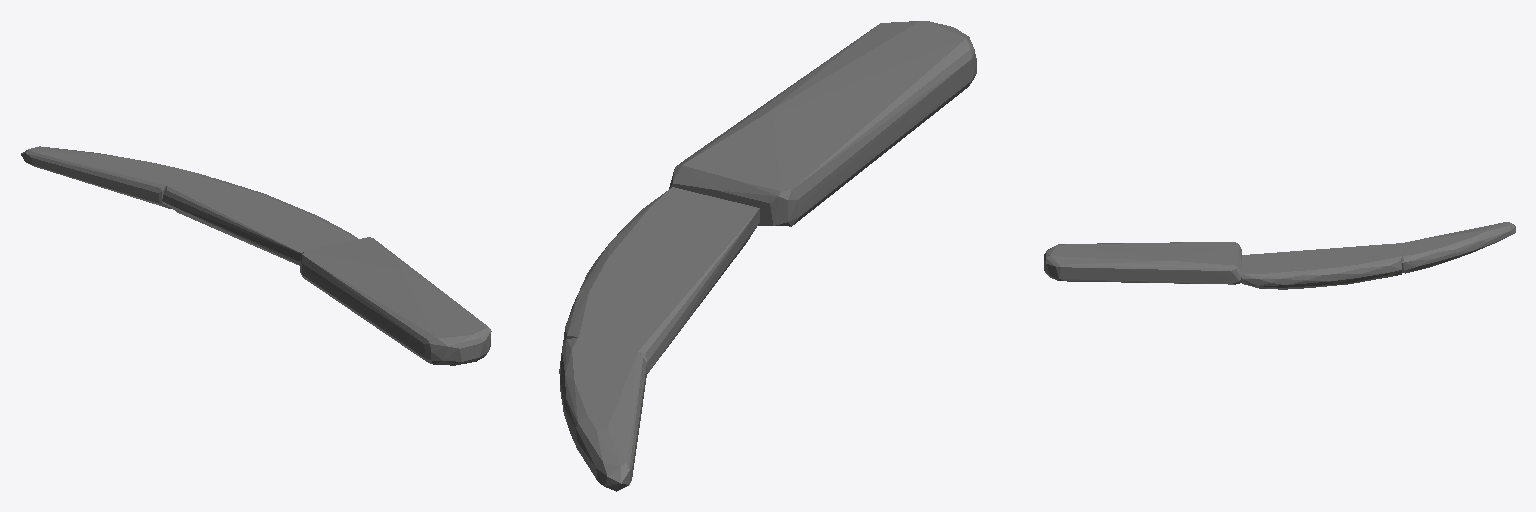
URDF robot description (knife_031):
<?xml version="1.0" ?>
<robot name="knife_031">
  <material name="color">
    <color rgba=".5 .5 .5 1"/>
  </material>

  <link name="base_link">
    <contact>
      <lateral_friction value="1.0"/>
      <rolling_friction value="0.001"/>
      <spinning_friction value="0.001"/>
      <inertia_scaling value="1.0"/>
    </contact>
    <inertial>
      <origin rpy="0 0 0" xyz="0.0106457 -0.0103061 -0.00175472"/>
       <mass value="0.1"/>
       <inertia ixx="1" ixy="0" ixz="0" iyy="1" iyz="0" izz="1"/>
    </inertial>

    <visual>
      <origin rpy="0 0 0" xyz="0 0 0"/>
      <geometry>
        <mesh filename="knife_031_vhacd_0_of_3.obj" scale="1 1 1"/>
      </geometry>
      <material name="color"/>
    </visual>
    <visual>
      <origin rpy="0 0 0" xyz="0 0 0"/>
      <geometry>
        <mesh filename="knife_031_vhacd_1_of_3.obj" scale="1 1 1"/>
      </geometry>
      <material name="color"/>
    </visual>
    <visual>
      <origin rpy="0 0 0" xyz="0 0 0"/>
      <geometry>
        <mesh filename="knife_031_vhacd_2_of_3.obj" scale="1 1 1"/>
      </geometry>
      <material name="color"/>
    </visual>

    <collision>
      <origin rpy="0 0 0" xyz="0 0 0"/>
      <geometry>
        <mesh filename="knife_031_vhacd_0_of_3.obj" scale="1 1 1"/>
      </geometry>
    </collision>
    <collision>
      <origin rpy="0 0 0" xyz="0 0 0"/>
      <geometry>
        <mesh filename="knife_031_vhacd_1_of_3.obj" scale="1 1 1"/>
      </geometry>
    </collision>
    <collision>
      <origin rpy="0 0 0" xyz="0 0 0"/>
      <geometry>
        <mesh filename="knife_031_vhacd_2_of_3.obj" scale="1 1 1"/>
      </geometry>
    </collision>

  </link>
</robot>

--- Render facts (derived) ---
3 views of the same robot in one strip: view 1: azimuth 30°, elevation 25°; view 2: azimuth 150°, elevation 25°; view 3: azimuth 270°, elevation 25° (orthographic).
Model knife_031 with 1 links and 0 joints (none), rooted at base_link, posed all joints at 0.
Links seen in each view (by area): view 1: base_link; view 2: base_link; view 3: base_link.
Link boxes in pixels (x1,y1,x2,y2): base_link: [21, 146, 491, 365]; base_link: [559, 21, 976, 491]; base_link: [1044, 222, 1515, 289].
Size in the robot's own frame: 0.0478 by 0.1668 by 0.0116 metres.
Meshes: 3 distinct files referenced, 3 mesh visuals loaded (3 OBJ).